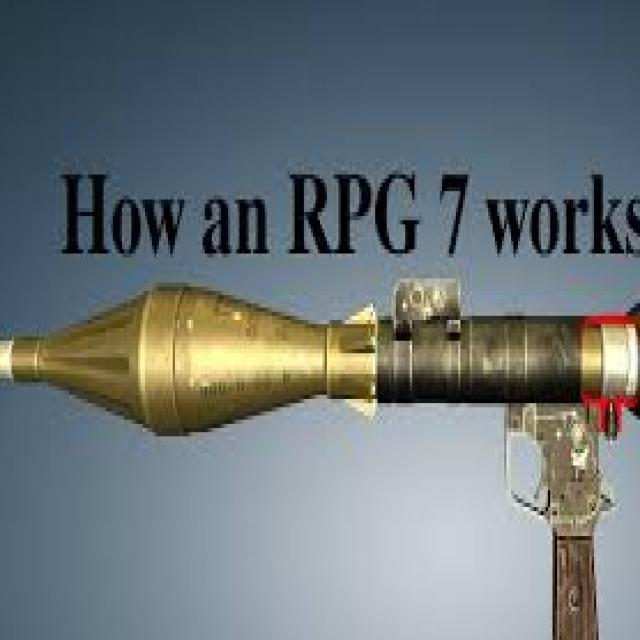Gun: (0, 228, 640, 606)
